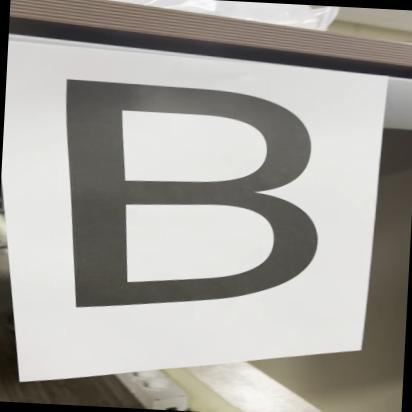seat: (24, 57, 358, 325)
